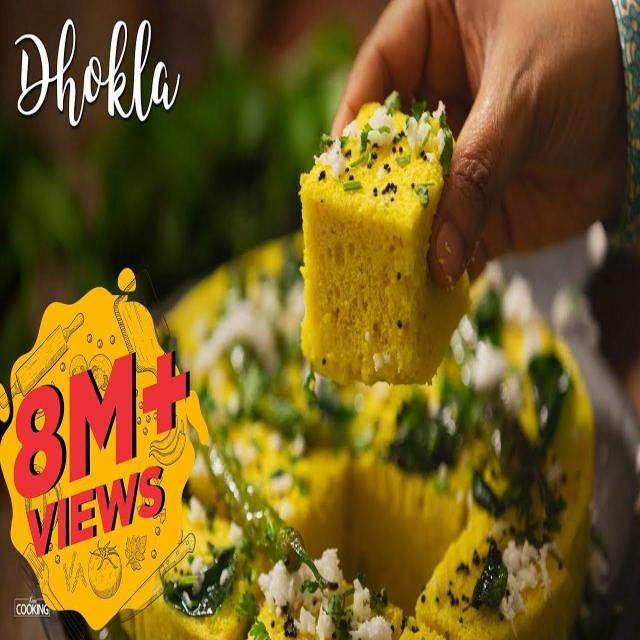dhokla: (150, 216, 606, 640), (307, 114, 464, 400)
